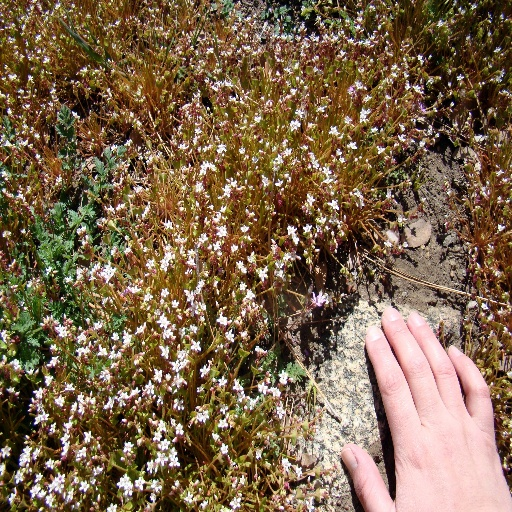hand: (352, 301, 496, 512)
